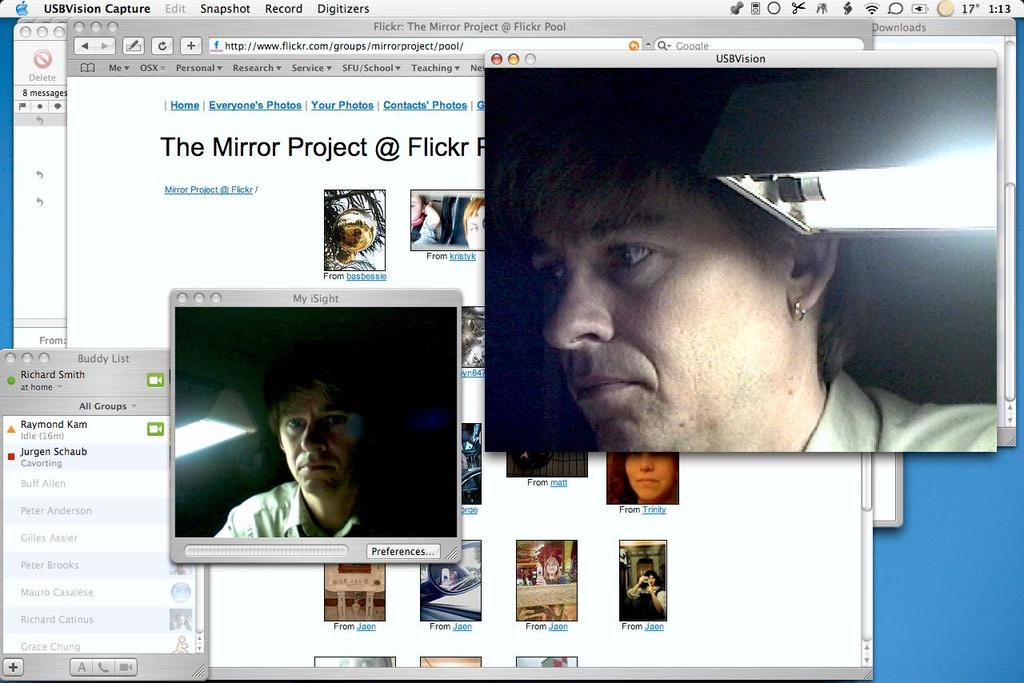Person: (209, 66, 996, 620)
